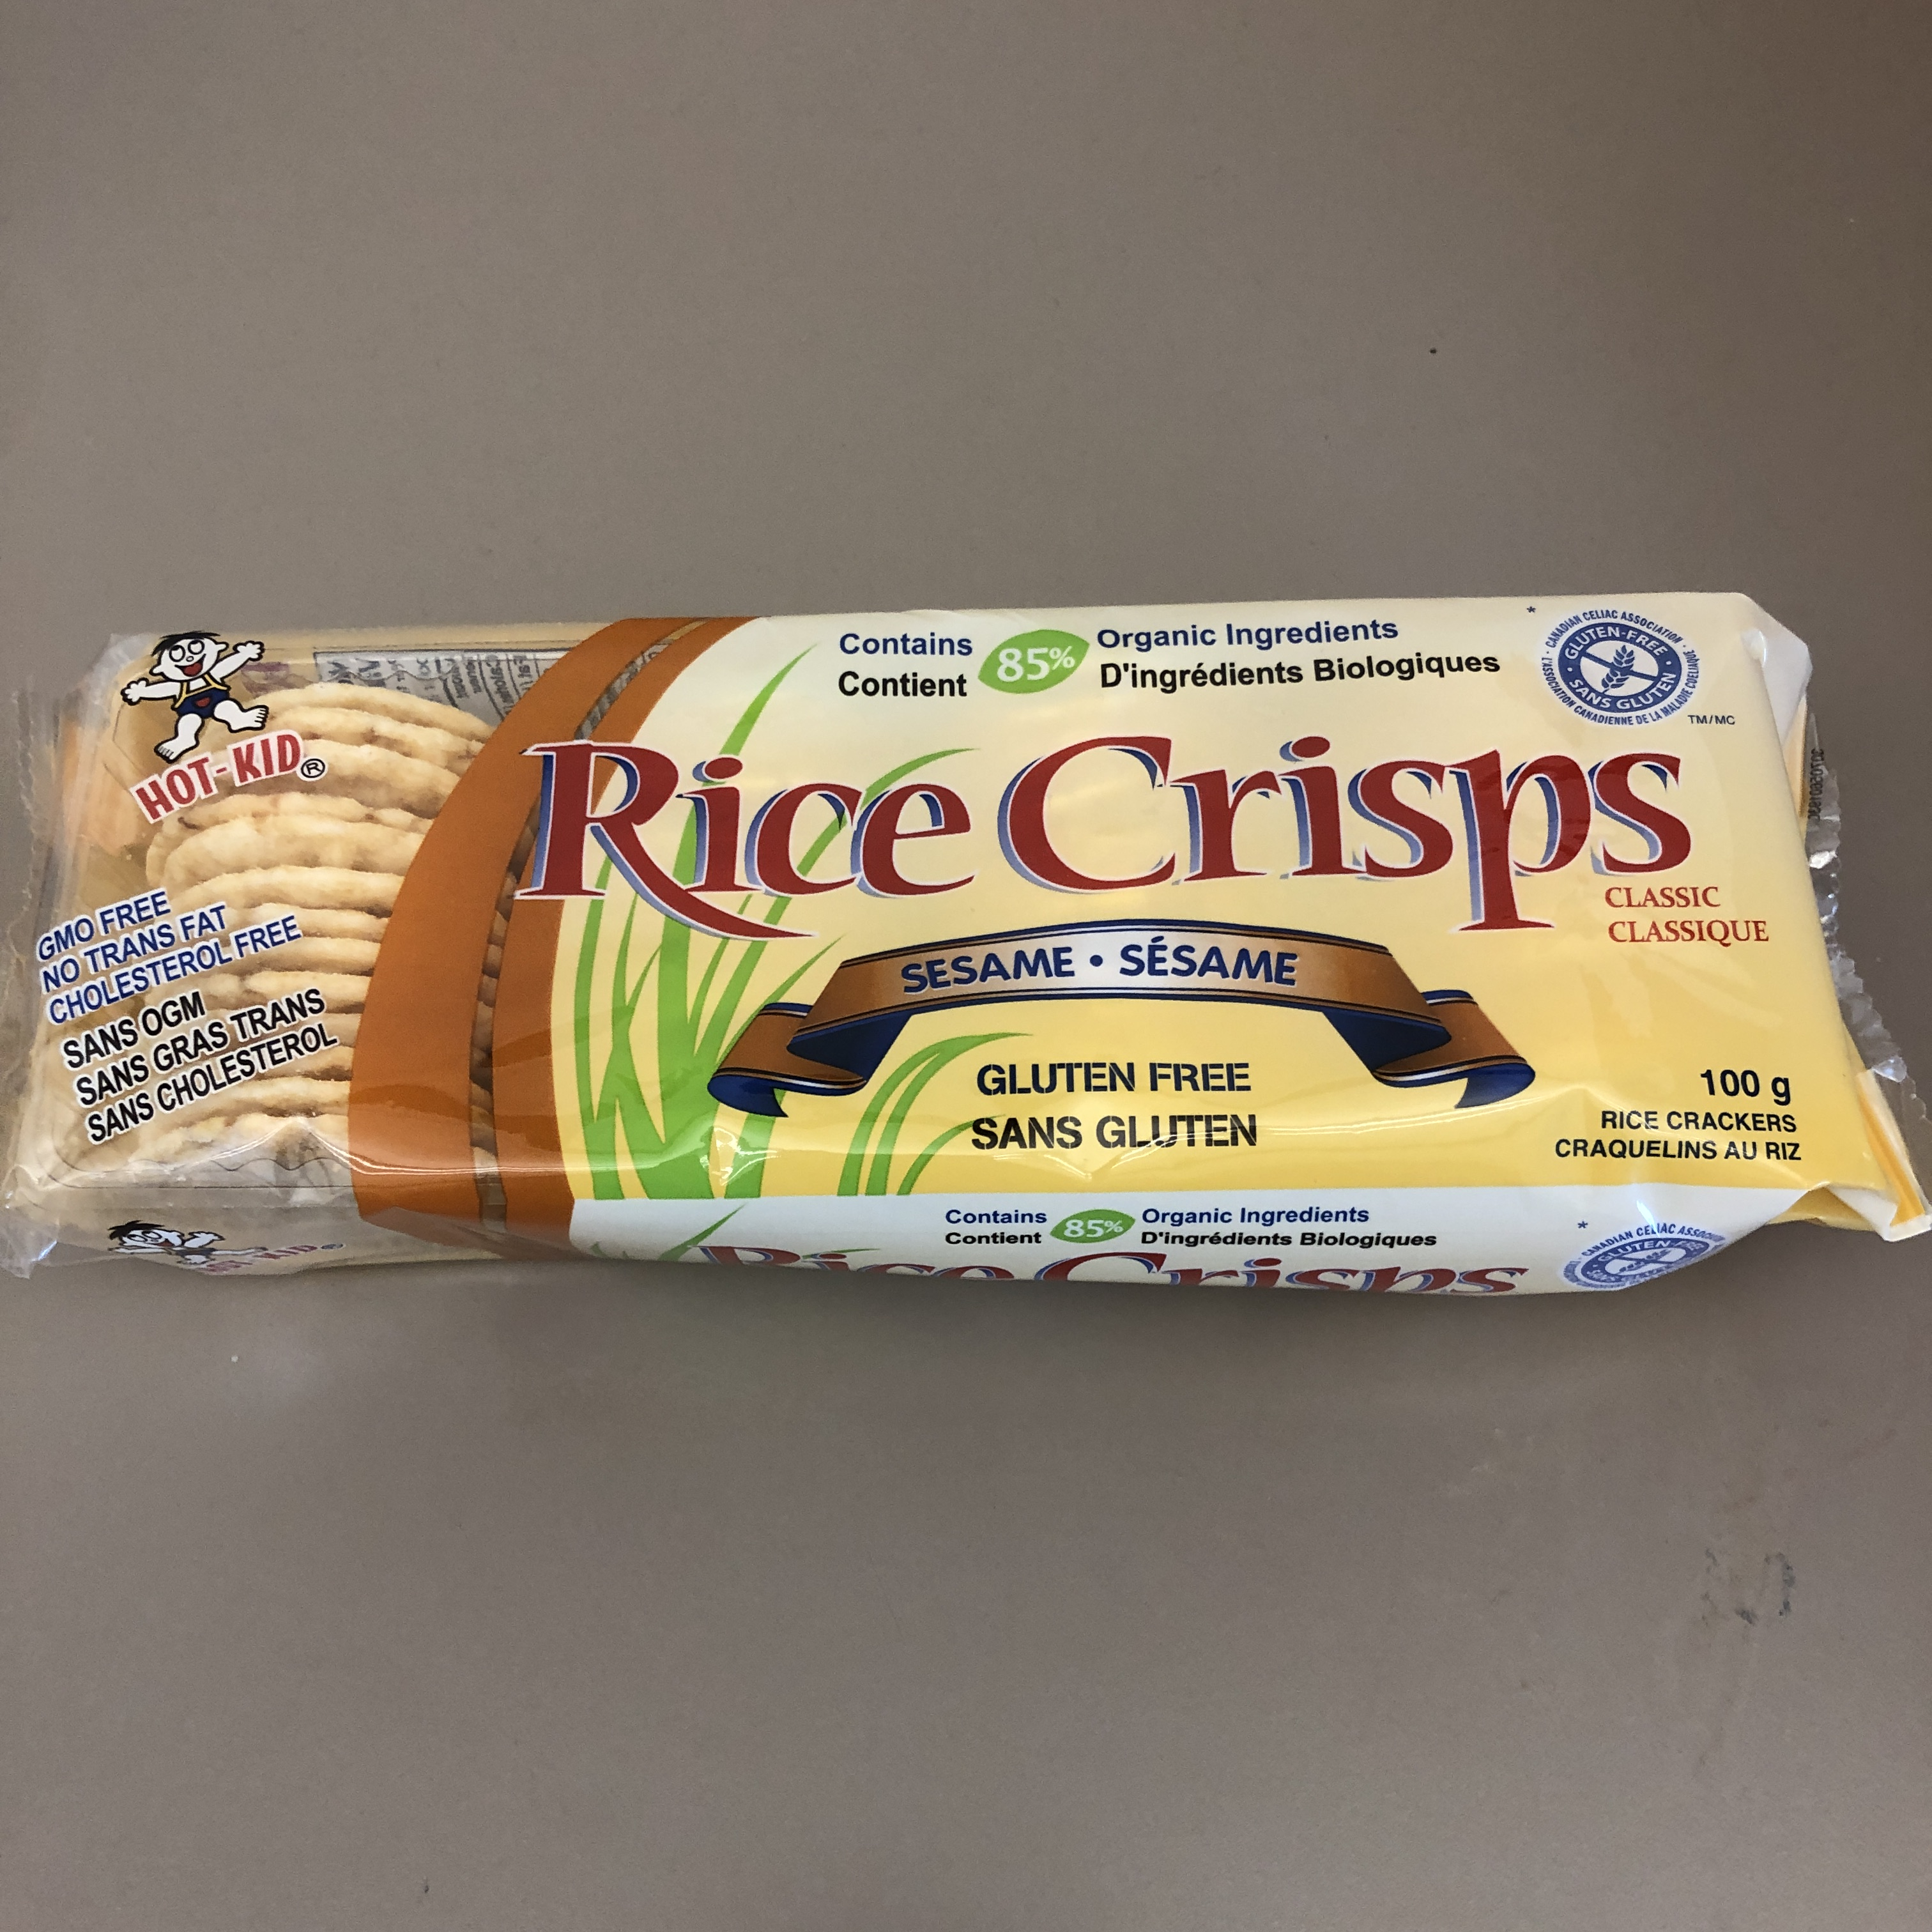hot_kid_rice_crisps_sesame: (601, 132, 1287, 1877)
